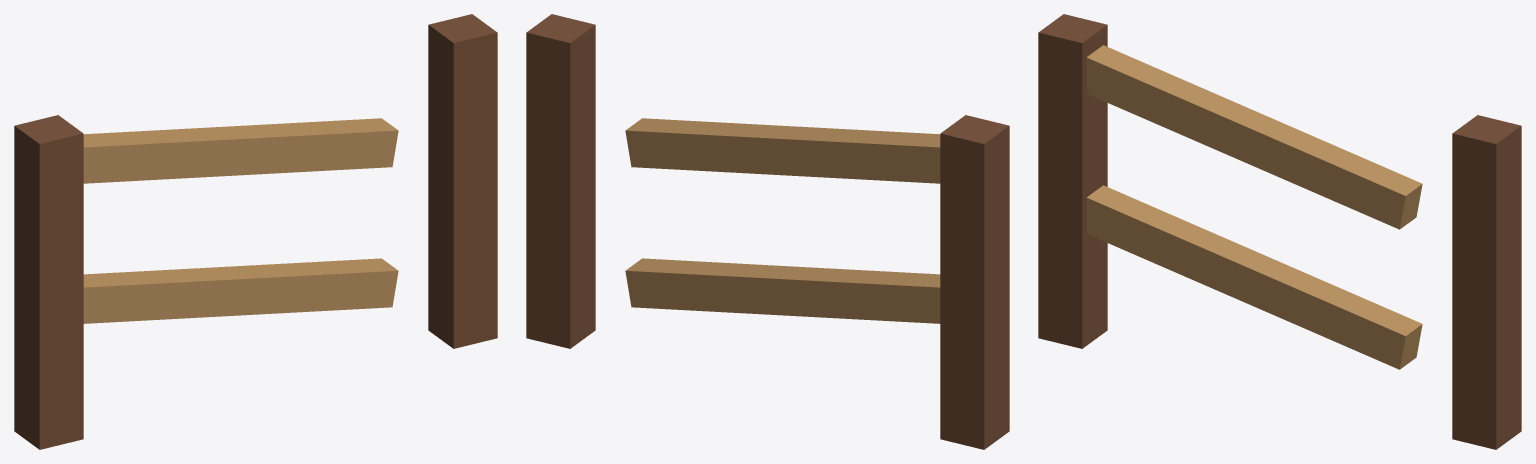
File: broken_fence.glb
The picture shows the model from 3 angles, left to right: view 1: azimuth 30°, elevation 25°; view 2: azimuth 150°, elevation 25°; view 3: azimuth 330°, elevation 25°; orthographic projection.
Parts seen in each view (by area): view 1: broken_fence; view 2: broken_fence; view 3: broken_fence.
Part boxes in pixels (x1,y1,x2,y2): broken_fence: (14,14,497,449); broken_fence: (526,14,1009,449); broken_fence: (1038,14,1521,449).
Size of the model in its own units: 1.88 by 1.2 by 0.18.
